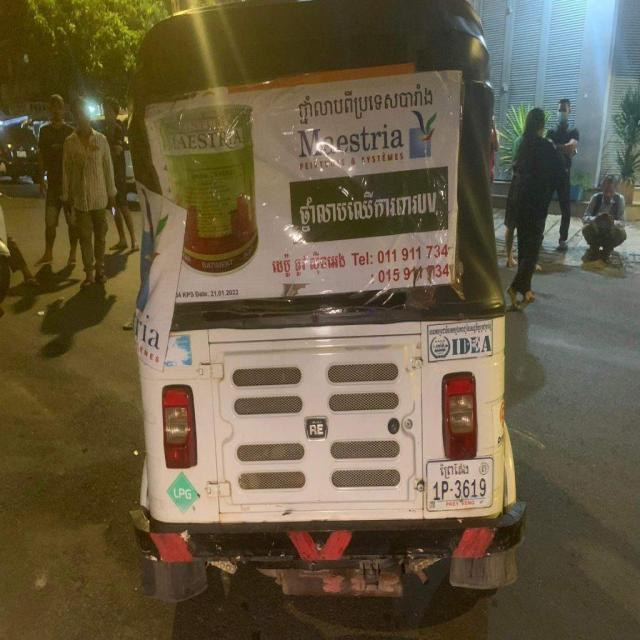Prey_Veng: (439, 463, 472, 481)
